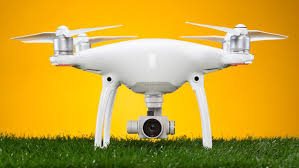Drone: (14, 9, 289, 155)
